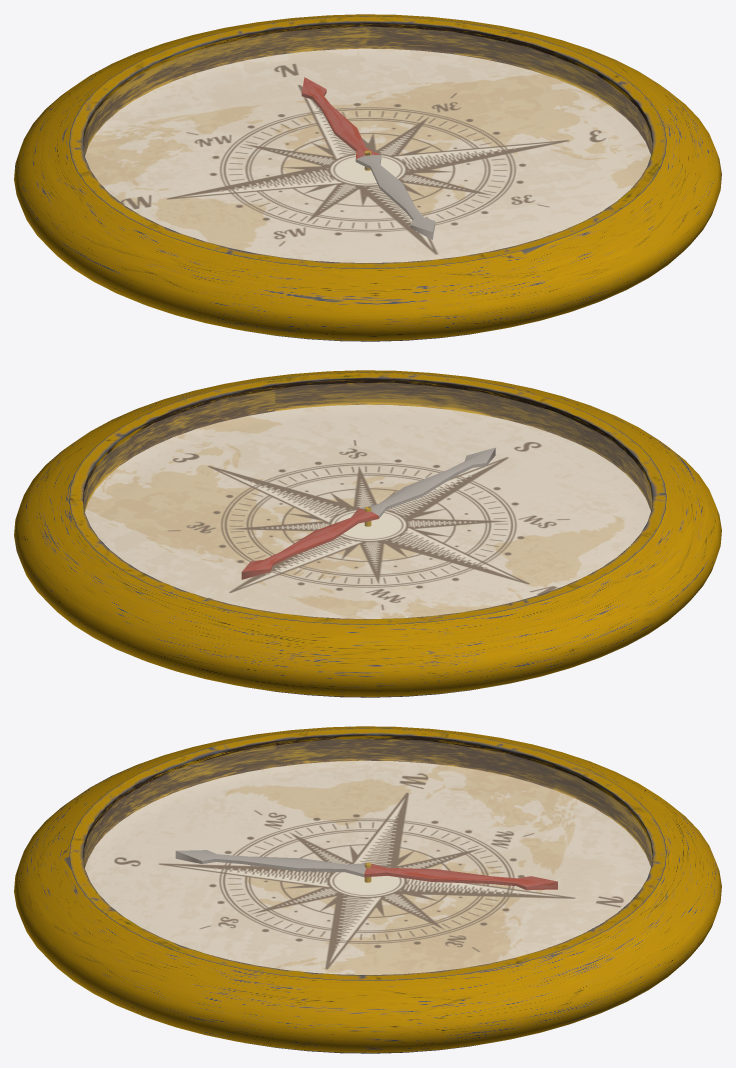
File: compass-white.glb
3 renders of one model, top to bottom at view 1: azimuth 30°, elevation 25°; view 2: azimuth 150°, elevation 25°; view 3: azimuth 270°, elevation 25°, orthographic.
Visible parts, largest first — view 1: Object_2, Object_4, Object_3, Object_6, Object_5; view 2: Object_2, Object_4, Object_3, Object_5, Object_6; view 3: Object_2, Object_4, Object_3, Object_5, Object_6.
Boxes of the visible parts, box(x1,y1,x2,y2) form: Object_2: box(83, 26, 652, 262); Object_4: box(14, 14, 721, 341); Object_3: box(85, 48, 650, 262); Object_6: box(355, 154, 435, 239); Object_5: box(301, 77, 380, 158); Object_2: box(83, 383, 652, 618); Object_4: box(14, 370, 721, 697); Object_3: box(85, 404, 650, 618); Object_5: box(241, 508, 378, 579); Object_6: box(359, 447, 495, 518); Object_2: box(83, 739, 652, 974); Object_4: box(14, 726, 721, 1053); Object_3: box(85, 760, 650, 974); Object_5: box(364, 863, 557, 890); Object_6: box(175, 850, 365, 876).
Bounding box in the file's own units: 17.93 × 2.19 × 17.93.
5 materials, 4 textured.
